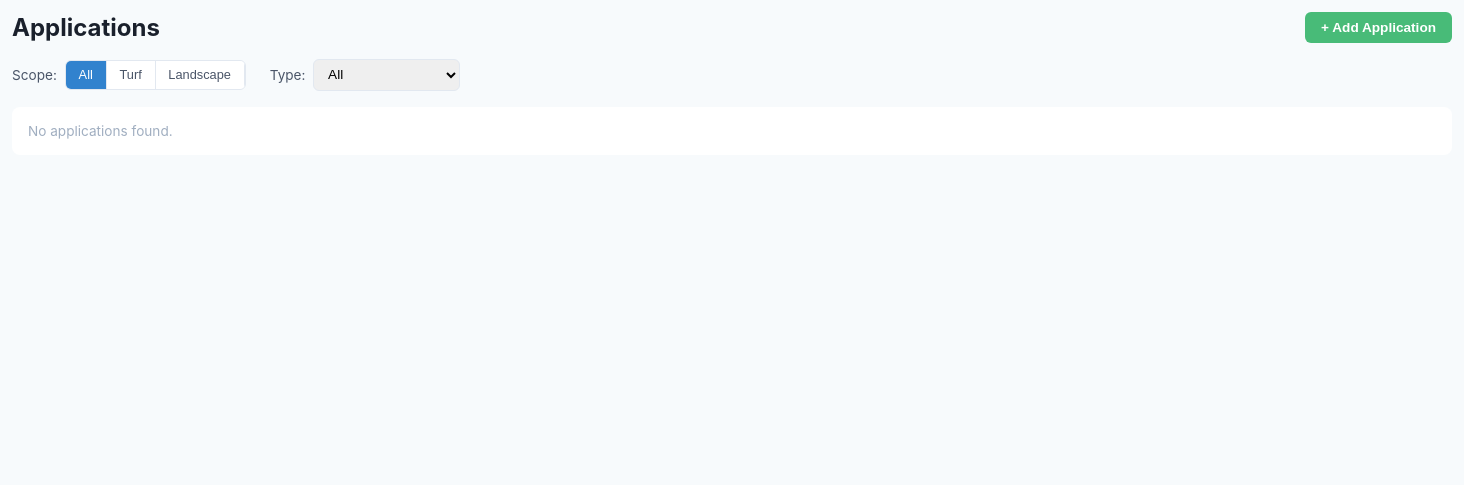
Test: application form › schedules a follow-up no earlier than the date, with week shortcuts
This screenshot has width=1464, height=485.
Step 1. Click the button "+ Add Application" → {"x": 1379, "y": 28}, box [1305,12,1452,43]
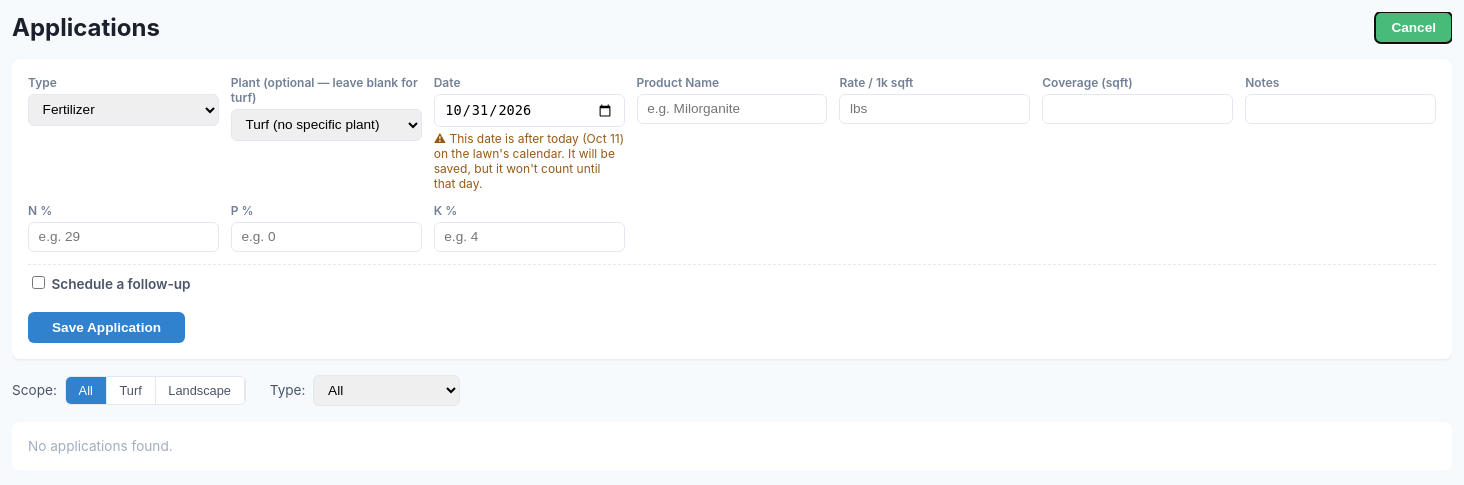
Step 2. Type "2026-10-25" into the date field labelled "Date" → {"x": 529, "y": 110}, box [434,94,625,127]
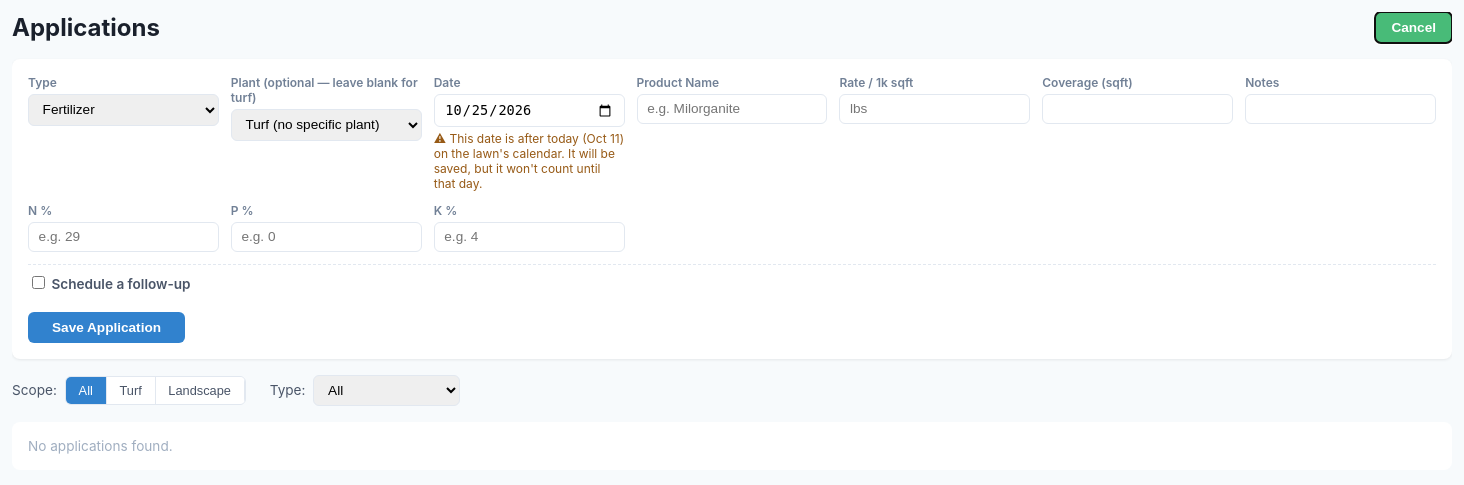
Step 3. Click the checkbox labelled "Schedule a follow-up" → {"x": 38, "y": 282}, box [32,276,45,289]
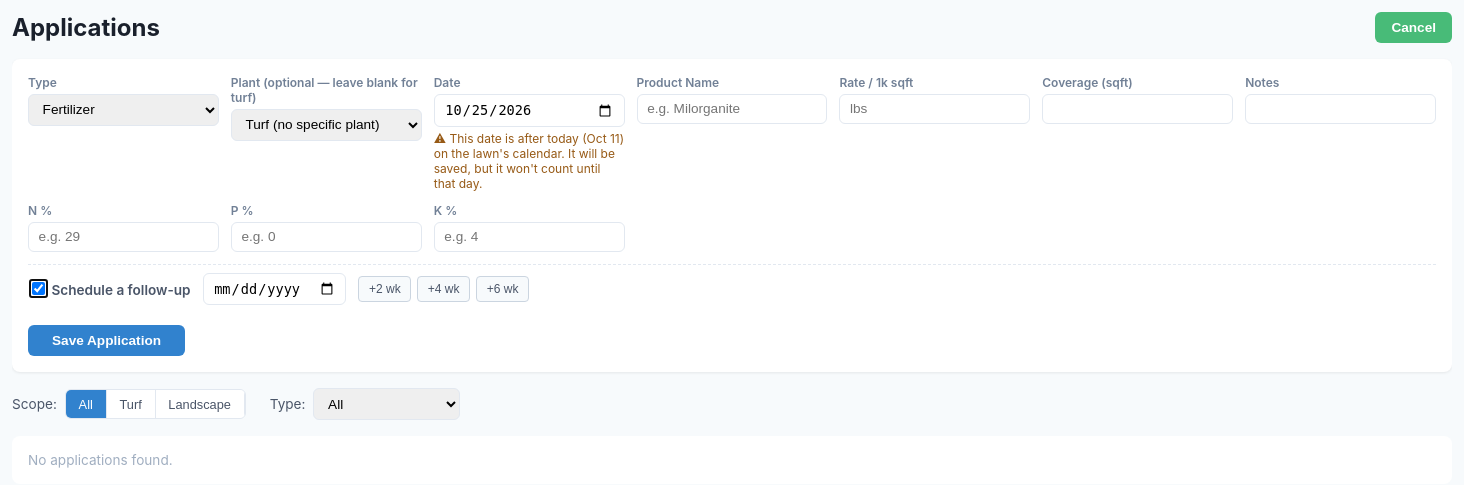
Step 4. Click the button "+2 wk" → {"x": 385, "y": 289}, box [358,276,411,302]
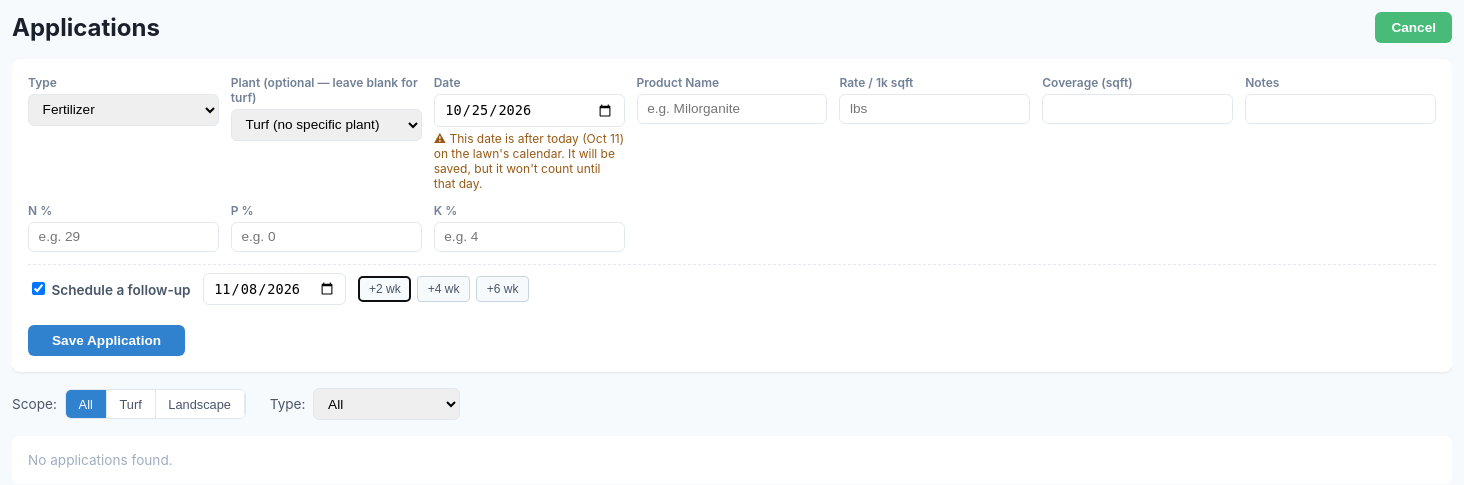
Expected: the 2nd date field holds "2026-11-08", [203,273,346,305]
Step 5. Click the button "+4 wk" → {"x": 444, "y": 289}, box [417,276,470,302]
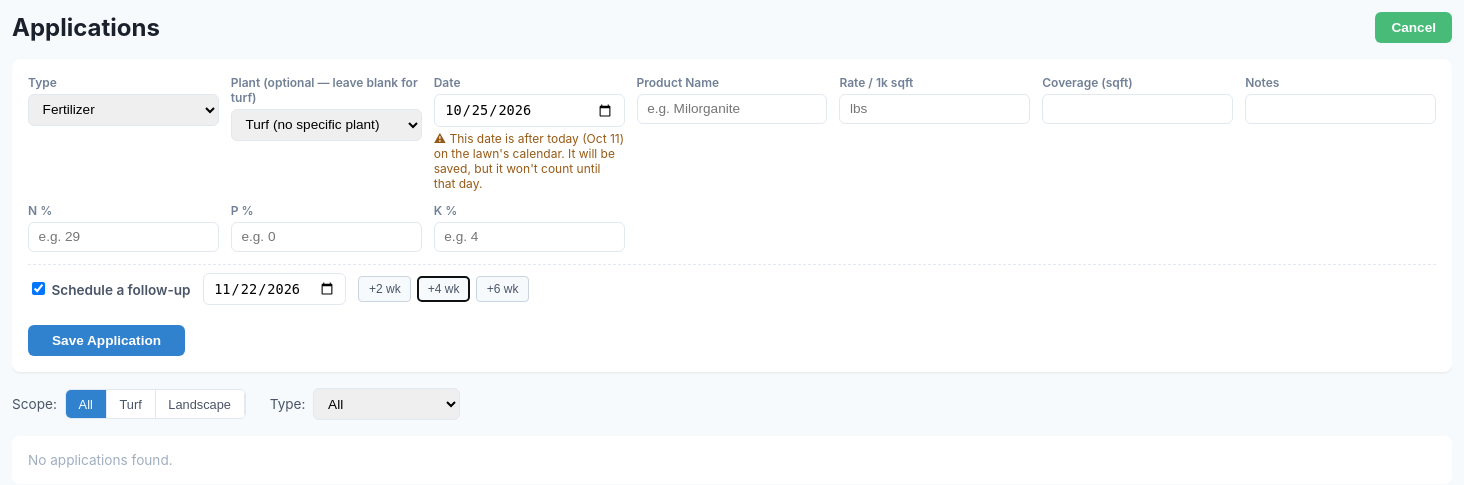
Expected: the 2nd date field holds "2026-11-22", [203,273,346,305]
Step 6. Click the button "+6 wk" → {"x": 503, "y": 289}, box [476,276,529,302]
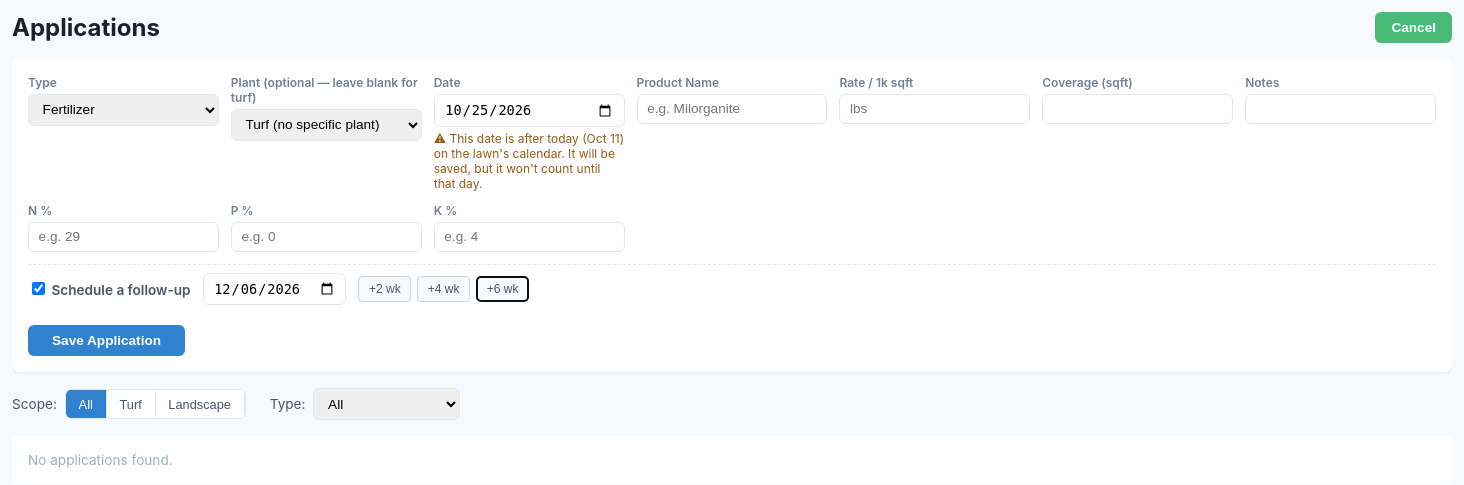
Expected: the 2nd date field holds "2026-12-06", [203,273,346,305]
